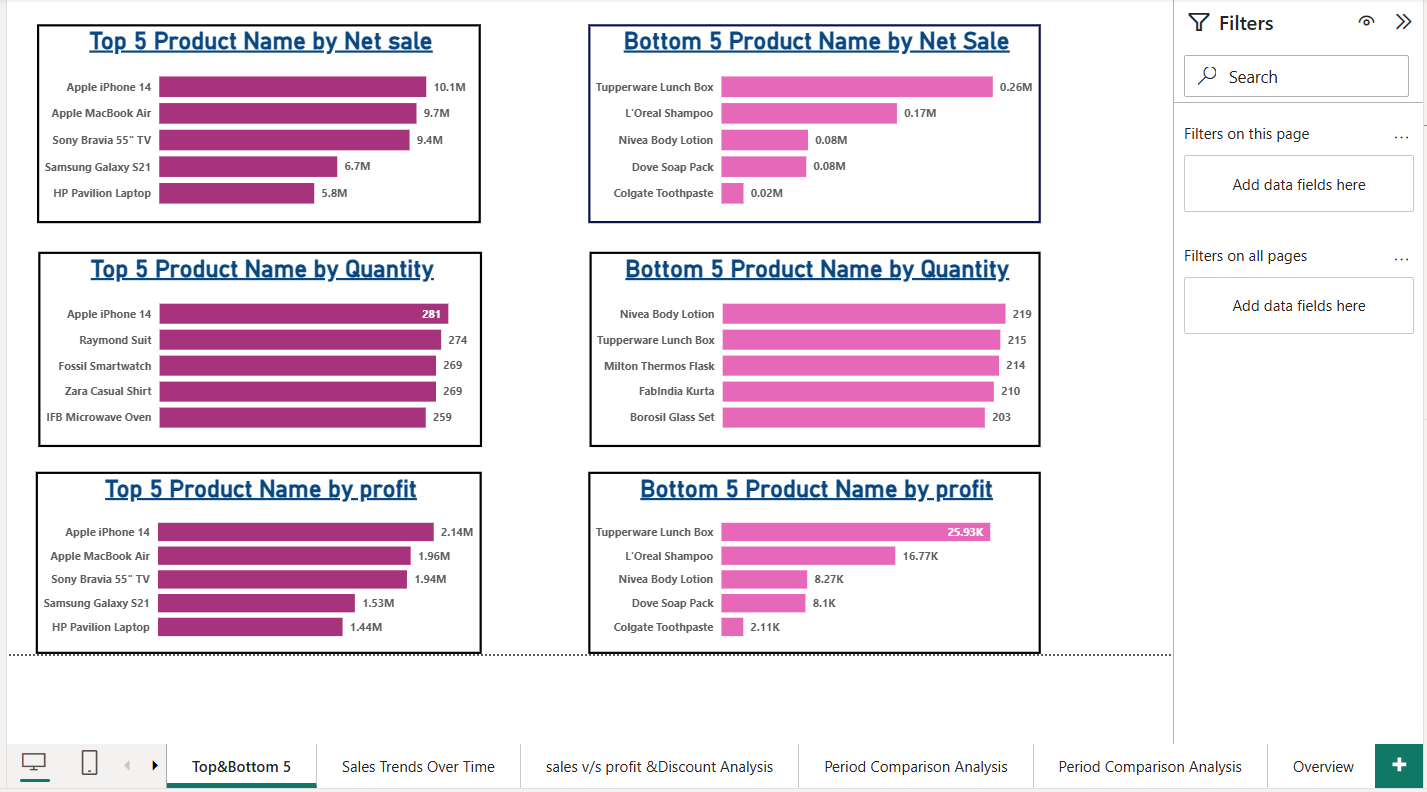

Layout of this report page (visuals, bound fields, positions):
{"tool":"powerbi","page":{"name":"Top&Bottom 5","canvas":[1280,720],"ordinal":0},"visuals":[{"type":"barChart","title":"Top 5 Product Name by Net sale","fields":{"Category":["Dim Product.Product Name"],"Y":["Sum(Fact Table.Net Sale )"]},"box":[32.9,28.8,487.1,218.2],"z":0},{"type":"barChart","title":"Bottom 5 Product Name by Net Sale","fields":{"Category":["Dim Product.Product Name"],"Y":["Sum(Fact Table.Net Sale )"]},"box":[638.1,28.8,496.7,218.2],"z":1000},{"type":"barChart","title":"Top 5 Product Name by Quantity","fields":{"Category":["Dim Product.Product Name"],"Y":["Sum(Fact Table.Units Sold)"]},"box":[34.3,278.6,487.1,214.1],"z":2000},{"type":"barChart","title":"Top 5 Product Name by profit","fields":{"Category":["Dim Product.Product Name"],"Y":["Sum(Fact Table.Profit)"]},"box":[31.6,520.1,489.9,200.3],"z":3000},{"type":"barChart","title":"Bottom 5 Product Name by Quantity","fields":{"Category":["Dim Product.Product Name"],"Y":["Sum(Fact Table.Units Sold)"]},"box":[639.5,278.6,495.4,214.1],"z":4000},{"type":"barChart","title":"Bottom 5 Product Name by profit","fields":{"Category":["Dim Product.Product Name"],"Y":["Sum(Fact Table.Profit)"]},"box":[638.1,520.1,496.7,200.3],"z":5000}]}

Visuals, with their boxes on the page's 1280x720 design canvas (x1, y1, x2, y2). These are canvas units, not pixel positions in the 1427x792 screenshot, which may show the page scaled, cropped or inside an application window:
"Top 5 Product Name by Net sale" barChart: {"x1": 33, "y1": 29, "x2": 520, "y2": 247}
"Bottom 5 Product Name by Net Sale" barChart: {"x1": 638, "y1": 29, "x2": 1135, "y2": 247}
"Top 5 Product Name by Quantity" barChart: {"x1": 34, "y1": 279, "x2": 521, "y2": 493}
"Top 5 Product Name by profit" barChart: {"x1": 32, "y1": 520, "x2": 522, "y2": 720}
"Bottom 5 Product Name by Quantity" barChart: {"x1": 640, "y1": 279, "x2": 1135, "y2": 493}
"Bottom 5 Product Name by profit" barChart: {"x1": 638, "y1": 520, "x2": 1135, "y2": 720}
